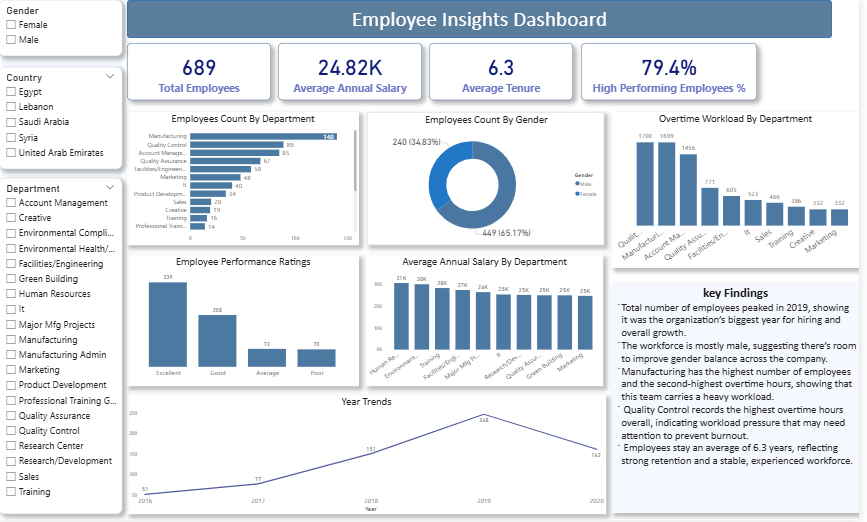

What the dashboard file says about the page in this screenshot:
{"tool":"powerbi","page":{"name":"Page 1","canvas":[2150,1300],"ordinal":0},"visuals":[{"type":"card","fields":{"Values":["Max(Employees_cleaned.Total_Employees)"]},"box":[320,107.5,360,142.5],"z":0},{"type":"clusteredBarChart","title":"Employees Count By Department","fields":{"Category":["Employees_cleaned.Department"],"Y":["CountNonNull(Employees_cleaned.No)"]},"box":[320,280,580,332.5],"z":1000},{"type":"donutChart","title":"Employees Count By Gender","fields":{"Category":["Employees_cleaned.Gender"],"Y":["CountNonNull(Employees_cleaned.No)"]},"box":[920,280,592.5,332.5],"z":2000},{"type":"clusteredColumnChart","title":"Employee Performance Ratings","fields":{"Category":["Employees_cleaned.Performance"],"Y":["CountNonNull(Employees_cleaned.No)"]},"box":[320,637.5,580,327.5],"z":3000},{"type":"lineChart","title":"Year Trends","fields":{"Category":["Employees_cleaned.Start Date.Variation.Date Hierarchy.Year","Employees_cleaned.Start Date.Variation.Date Hierarchy.Quarter","Employees_cleaned.Start Date.Variation.Date Hierarchy.Month","Employees_cleaned.Start Date.Variation.Date Hierarchy.Day"],"Y":["CountNonNull(Employees_cleaned.No)"]},"box":[320,987.5,1197.5,297.5],"z":4000},{"type":"clusteredColumnChart","title":"Average Annual Salary By Department","fields":{"Category":["Employees_cleaned.Department"],"Y":["Employees_cleaned.Average Annual Salary"]},"box":[917.5,637.5,592.5,327.5],"z":5000},{"type":"columnChart","title":"Overtime Workload By Department","fields":{"Category":["Employees_cleaned.Department"],"Y":["Sum(Employees_cleaned.Overtime Hours)"]},"box":[1532.5,280,617.5,390],"z":6000},{"type":"shape","box":[7.5,0,300,1232.5],"z":7000},{"type":"textbox","box":[1532.5,707.5,617.5,575],"z":8000},{"type":"slicer","fields":{"Values":["Employees_cleaned.Gender"]},"box":[0,0,307.5,140],"z":9000},{"type":"slicer","fields":{"Values":["Employees_cleaned.Department"]},"box":[0,445,307.5,840],"z":10000},{"type":"slicer","fields":{"Values":["Employees_cleaned.Country"]},"box":[0,167.5,307.5,255],"z":11000},{"type":"card","fields":{"Values":["Employees_cleaned.Average Annual Salary"]},"box":[697.5,107.5,360,142.5],"z":12000},{"type":"card","fields":{"Values":["Min(Employees_cleaned.Average_tenure)"]},"box":[1075,107.5,360,142.5],"z":13000},{"type":"card","fields":{"Values":["Employees_cleaned.Percent_High_Performing_Employees"]},"box":[1455,107.5,440,142.5],"z":14000},{"type":"shape","title":"Employee Insights Dashboard","box":[320,0,1762.5,95],"z":15000}]}

Visuals, with their boxes in screenshot pixels (x1, y1, x2, y2), scaled from the page's 2150x1300 canvas onto the 867x522 screenshot:
card - Max(Employees_cleaned.Total_Employees): (129, 43, 274, 100)
"Employees Count By Department" clusteredBarChart: (129, 112, 363, 246)
"Employees Count By Gender" donutChart: (371, 112, 610, 246)
"Employee Performance Ratings" clusteredColumnChart: (129, 256, 363, 387)
"Year Trends" lineChart: (129, 397, 612, 516)
"Average Annual Salary By Department" clusteredColumnChart: (370, 256, 609, 387)
"Overtime Workload By Department" columnChart: (618, 112, 866, 269)
shape: (3, 0, 124, 495)
textbox: (618, 284, 866, 515)
slicer - Employees_cleaned.Gender: (0, 0, 124, 56)
slicer - Employees_cleaned.Department: (0, 179, 124, 516)
slicer - Employees_cleaned.Country: (0, 67, 124, 170)
card - Employees_cleaned.Average Annual Salary: (281, 43, 426, 100)
card - Min(Employees_cleaned.Average_tenure): (434, 43, 579, 100)
card - Employees_cleaned.Percent_High_Performing_Employees: (587, 43, 764, 100)
"Employee Insights Dashboard" shape: (129, 0, 840, 38)
